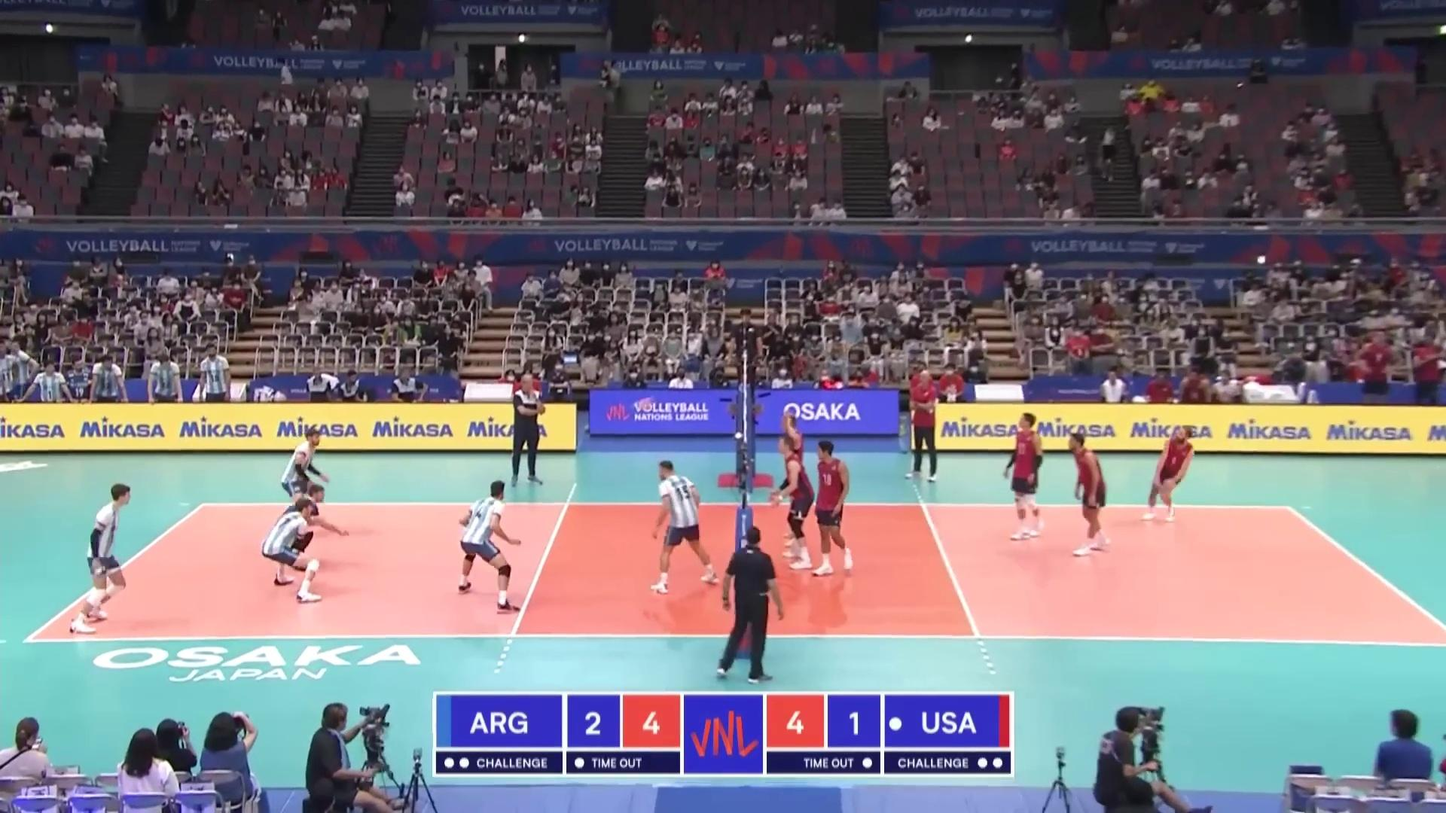player: (73, 483, 133, 635), (457, 481, 525, 612), (648, 459, 716, 590), (258, 500, 330, 604), (806, 443, 852, 579), (773, 433, 816, 570), (1001, 411, 1044, 542), (278, 487, 341, 574), (1067, 433, 1110, 557), (1144, 426, 1198, 524), (281, 427, 335, 524), (773, 410, 810, 547)
refree: (720, 531, 786, 683), (727, 307, 763, 403)
